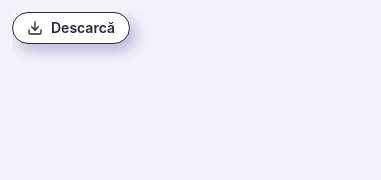
Scenario: DownloadButton › shows "Verificat" after a matching download
The width and height of the screenshot is (381, 180).
Step 1. Click the button with aria-label "Descarcă și verifică Citiri.csv" → (71, 28), box [12, 12, 130, 44]
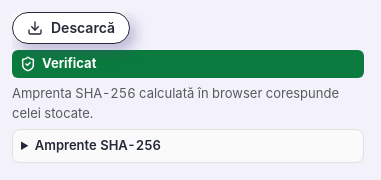
Expected: the text "Verificat" is shown, [12, 50, 364, 78]
Expected: the text "calculată în browser corespunde" is shown, [12, 85, 339, 120]
